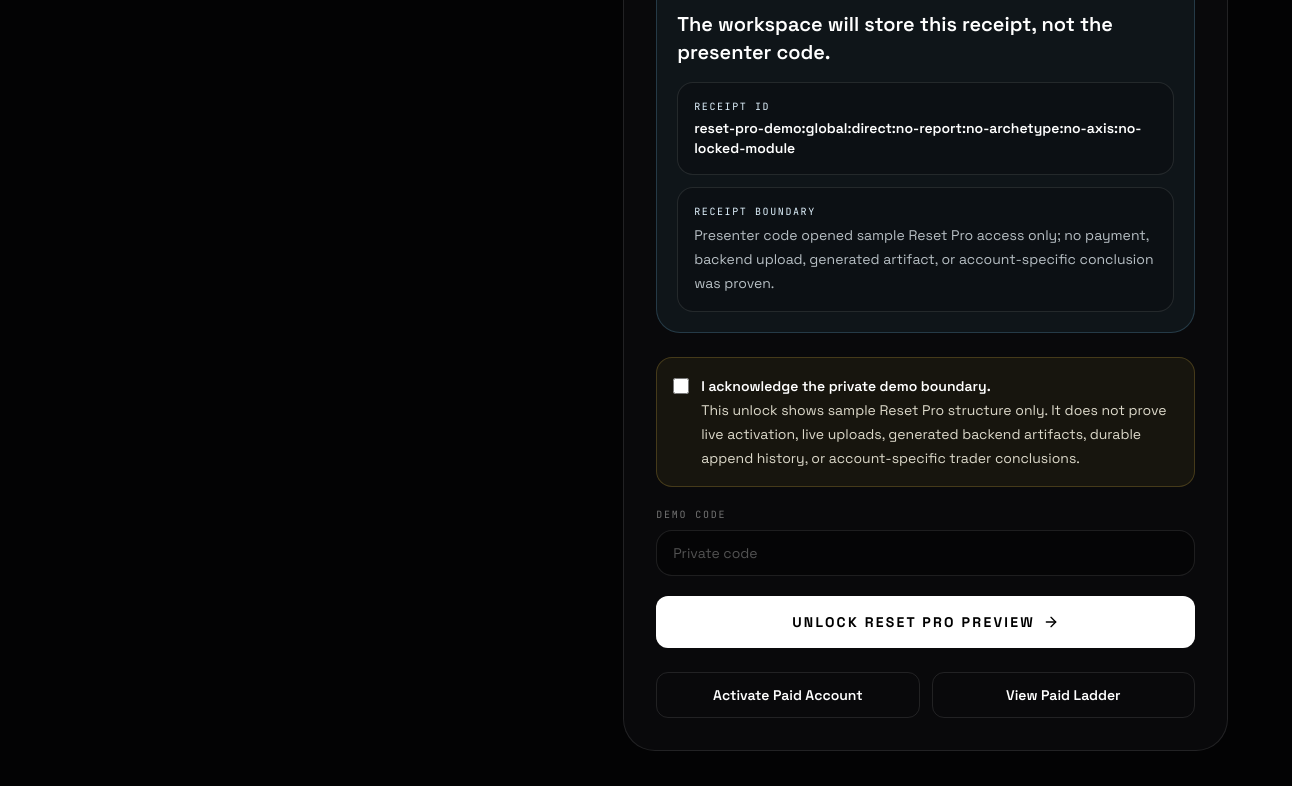
Test: PrivateDemoPage › blocks cold private-demo unlock even when a presenter code is configured
(page scrolled)
Click the checkbox labelled "I acknowledge the private demo boundary": (681, 386) [673,378,689,394]
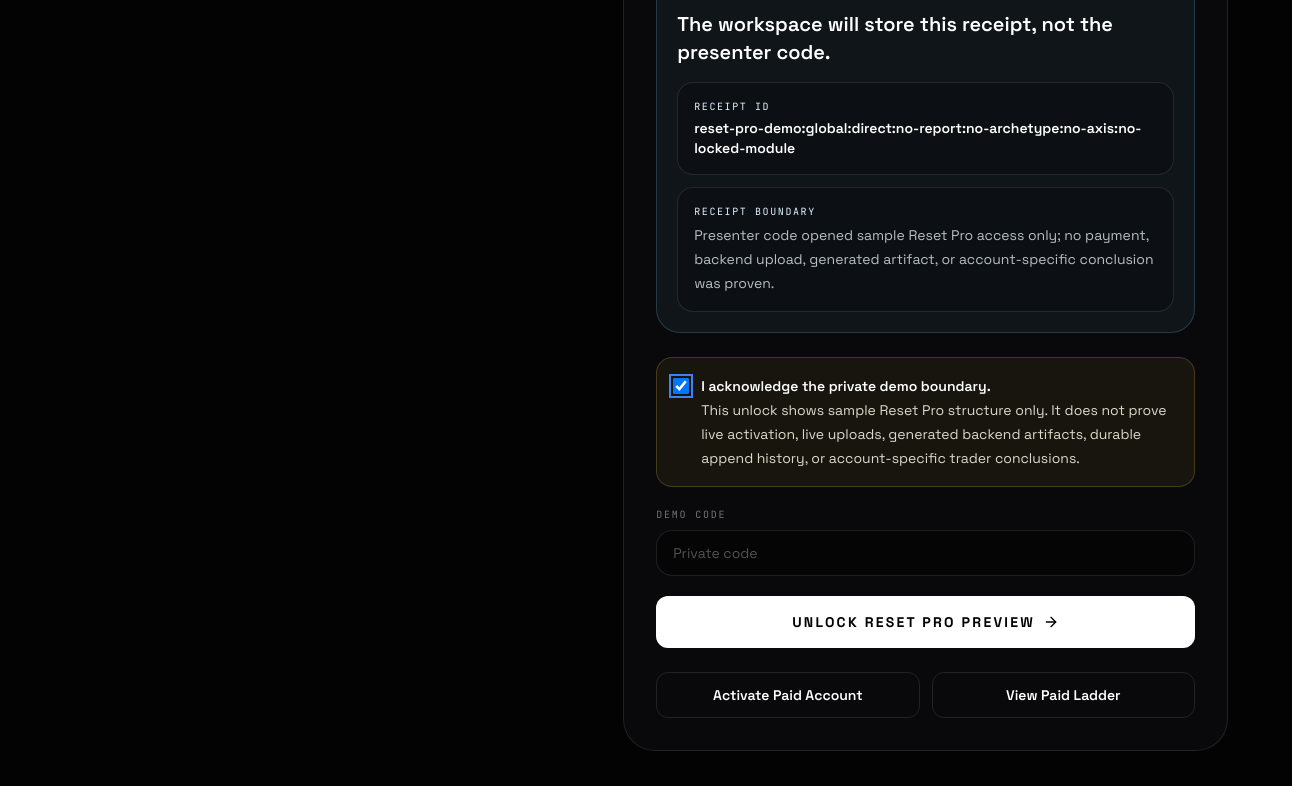
In the password field labelled "Demo code": (926, 553) [656,530,1195,576], type "founder-only"
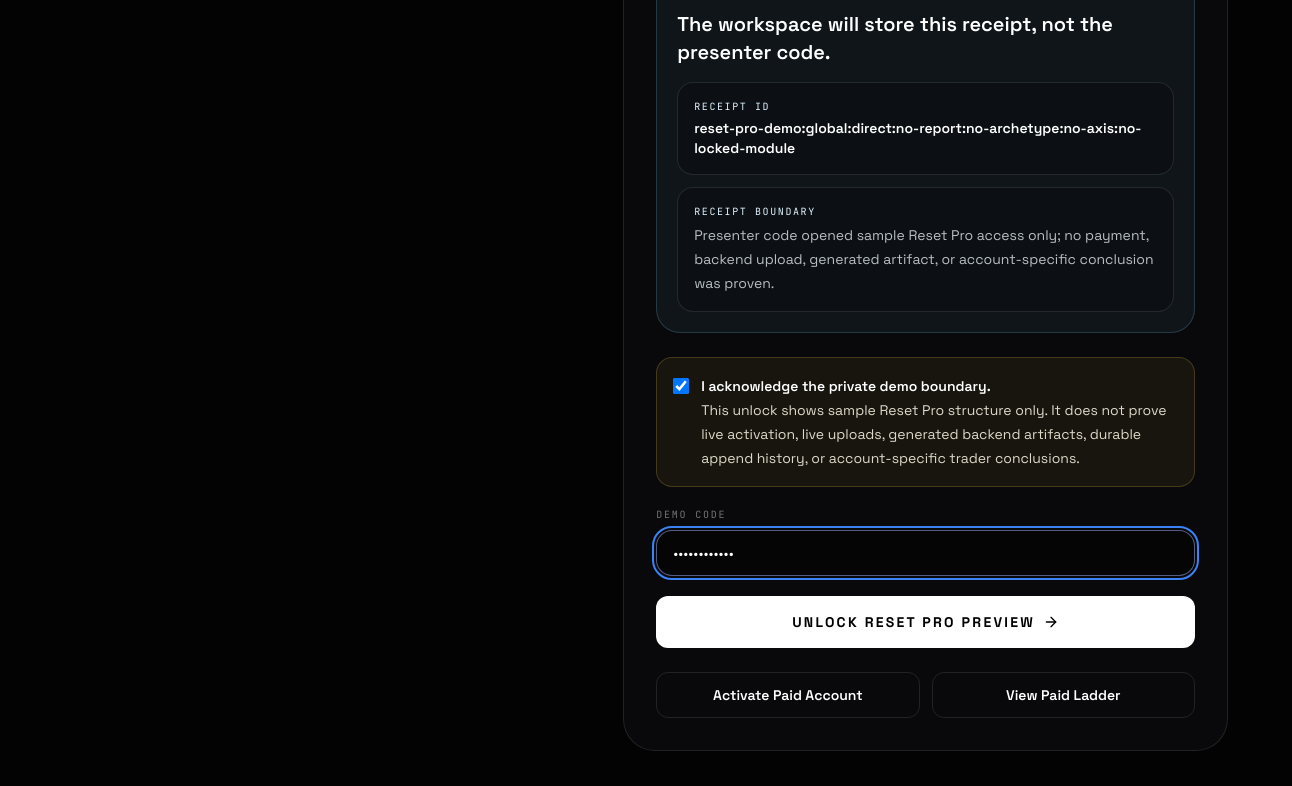
Click the button "Unlock Reset Pro Preview": (926, 622) [656,596,1195,648]
(page scrolled)
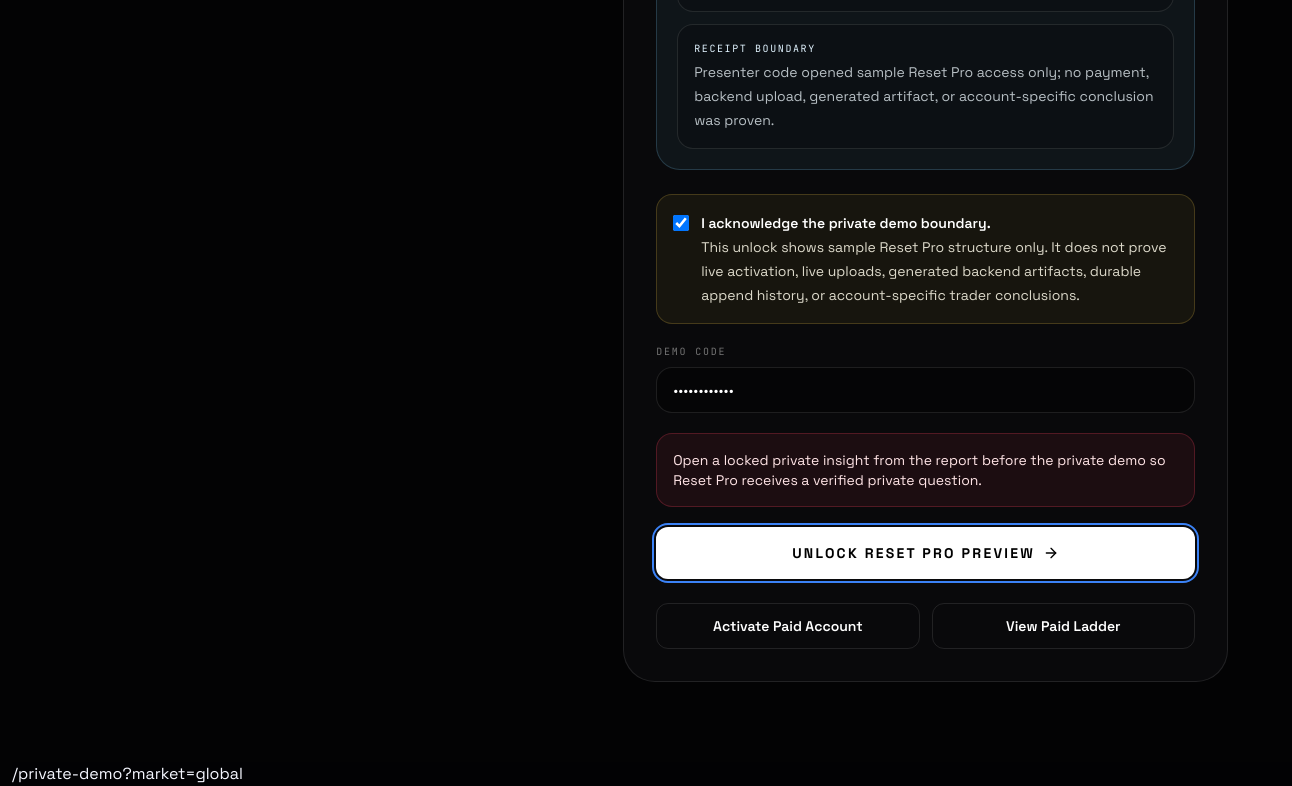
Expected: the text with test id "location" shows "/private-demo", [12,763,243,784]
Expected: the text "Open a locked private insight from the report before the private demo" is shown, [673,451,1166,489]
